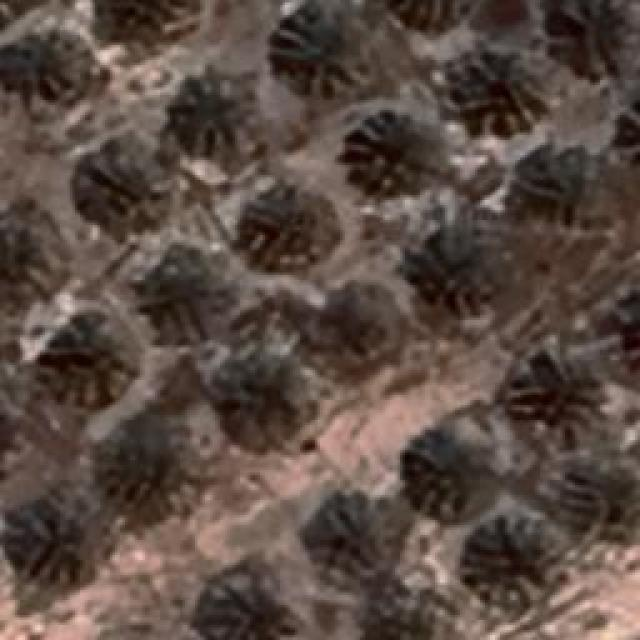PalmTree: (198, 361, 314, 444), (345, 110, 460, 192), (452, 39, 552, 132), (40, 310, 140, 400), (232, 188, 340, 268), (167, 62, 255, 160), (98, 416, 184, 514), (12, 495, 98, 590), (309, 494, 399, 578), (270, 9, 360, 92), (510, 350, 600, 432), (204, 570, 306, 640), (415, 430, 503, 510), (418, 228, 510, 304), (316, 285, 404, 363), (552, 0, 638, 78), (78, 146, 164, 224), (466, 528, 552, 604), (516, 147, 609, 215), (145, 245, 223, 325), (560, 458, 640, 536), (0, 206, 65, 292), (61, 19, 141, 73), (359, 594, 442, 640), (614, 88, 640, 175), (615, 282, 640, 372), (392, 0, 460, 30), (622, 276, 640, 371), (629, 284, 640, 374)
